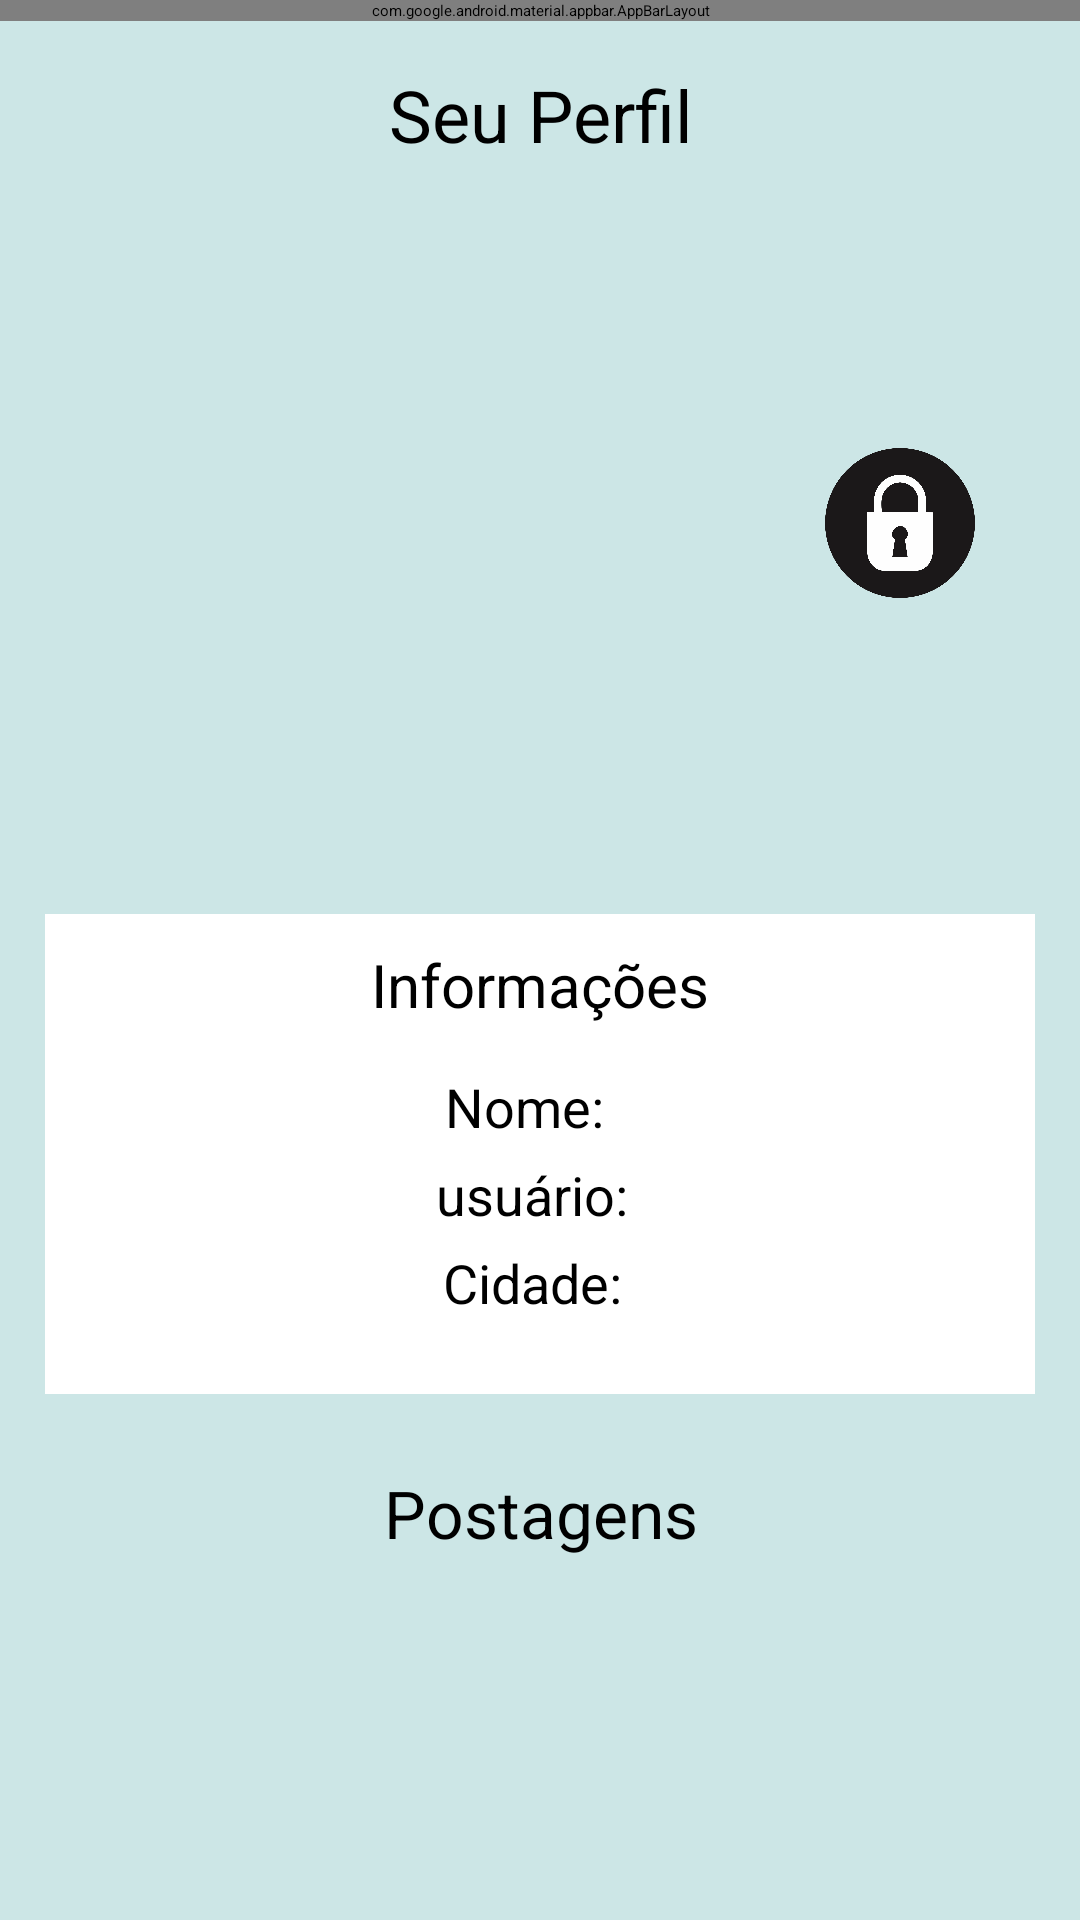

Icon click points for this 1080px×1920px phone screenshot, format point (x, y):
bloquear: point (900, 523)
